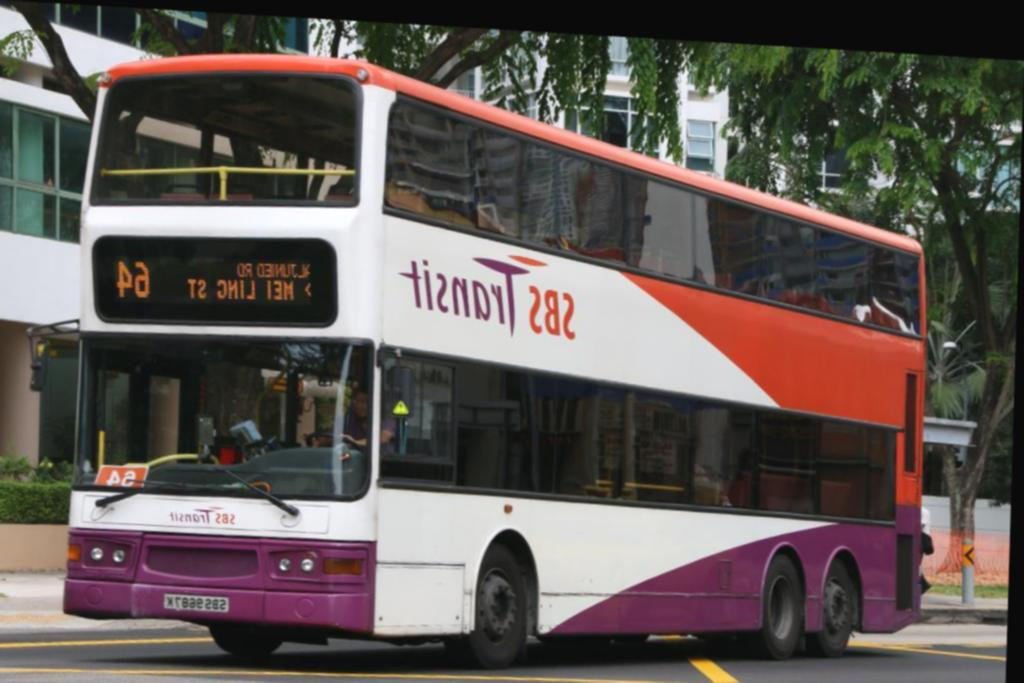License_Plate: (164, 593, 231, 615)
